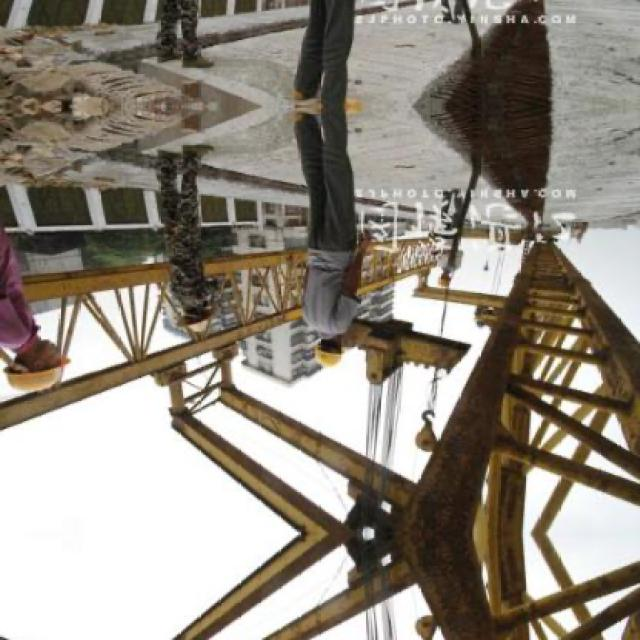con casco: (0, 330, 74, 415), (164, 295, 222, 362), (306, 324, 348, 391)
